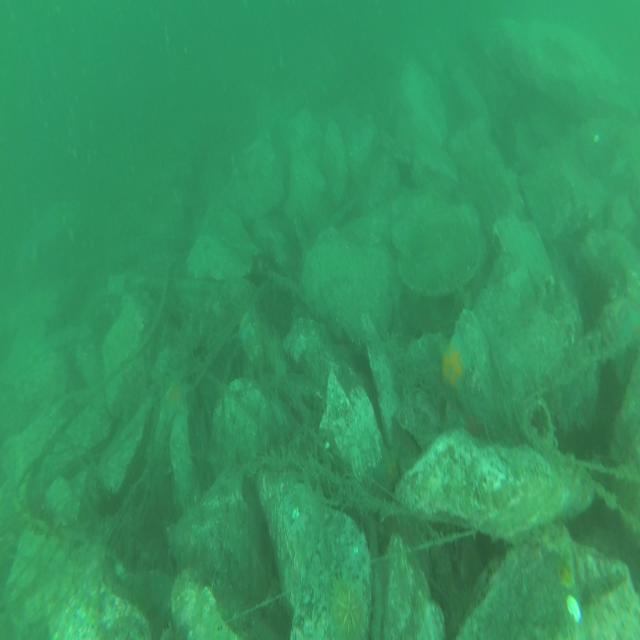echinus: (328, 567, 367, 634)
starfish: (539, 521, 585, 621), (437, 322, 477, 416), (152, 373, 193, 429), (370, 436, 408, 492), (226, 314, 254, 356)
